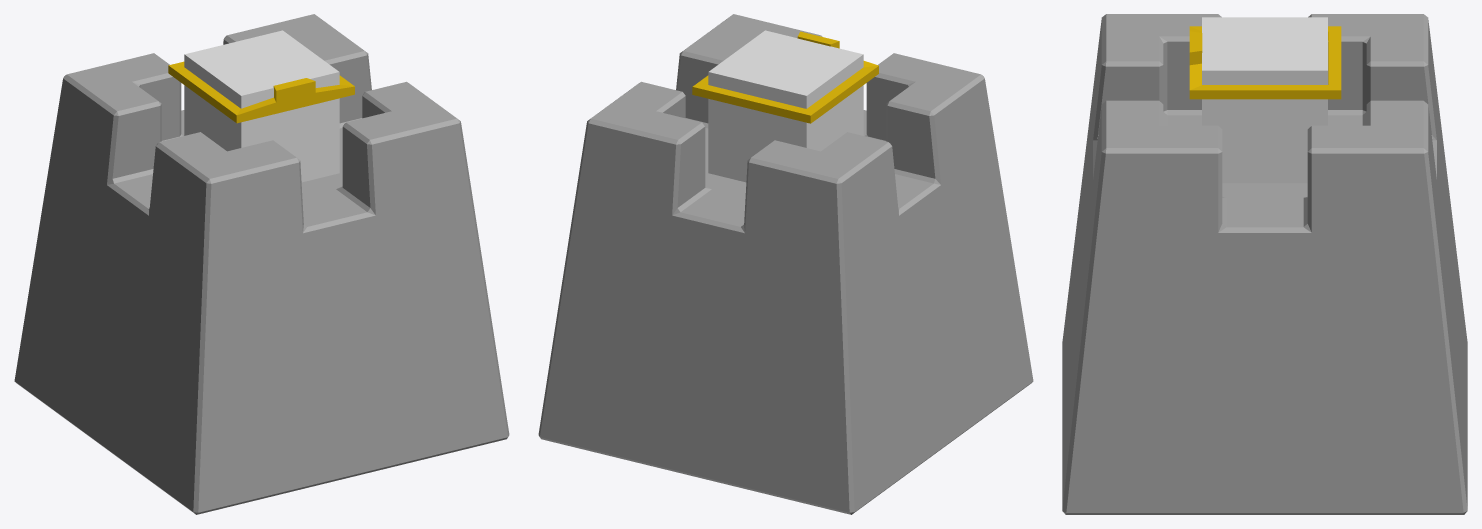
File: princess_tower_alive.fbx
3 renders of one model, left to right at view 1: azimuth 30°, elevation 25°; view 2: azimuth 150°, elevation 25°; view 3: azimuth 270°, elevation 25°, orthographic. The views are drawn at different scales.
Visible parts, largest first — view 1: tower, princess, princess_crown; view 2: tower, princess, princess_crown; view 3: tower, princess, princess_crown.
Boxes of the visible parts, bbox=[...] form: tower: bbox=[14, 14, 509, 514]; princess: bbox=[184, 30, 339, 182]; princess_crown: bbox=[168, 61, 354, 123]; tower: bbox=[538, 14, 1033, 514]; princess: bbox=[708, 30, 863, 182]; princess_crown: bbox=[692, 31, 878, 123]; tower: bbox=[1062, 14, 1467, 514]; princess: bbox=[1202, 17, 1327, 183]; princess_crown: bbox=[1189, 26, 1341, 99].
Size of the model in its own units: 200 by 211 by 200.
